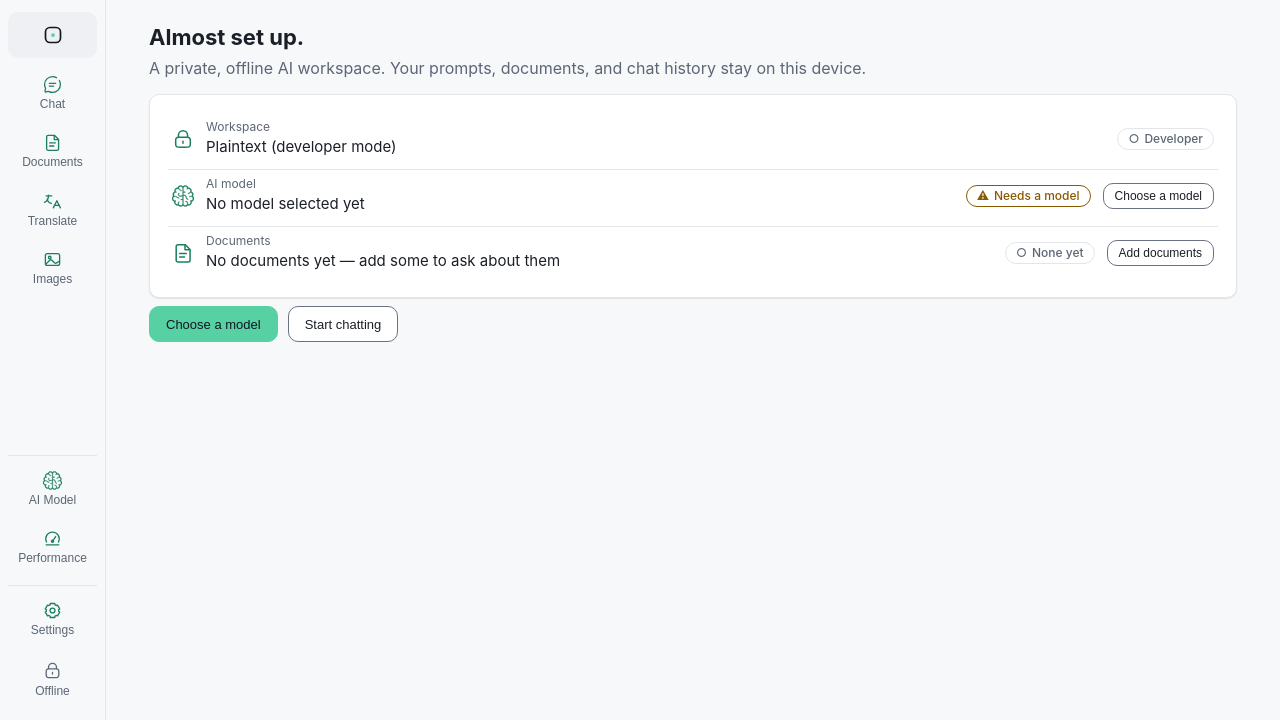
App shell: three rail groups, Home behind the brand mark (rail rework 2026-09-05) › opens the AI Model screen from the nav
Click the button "AI Model" at (52,489), box [8,462,97,516]
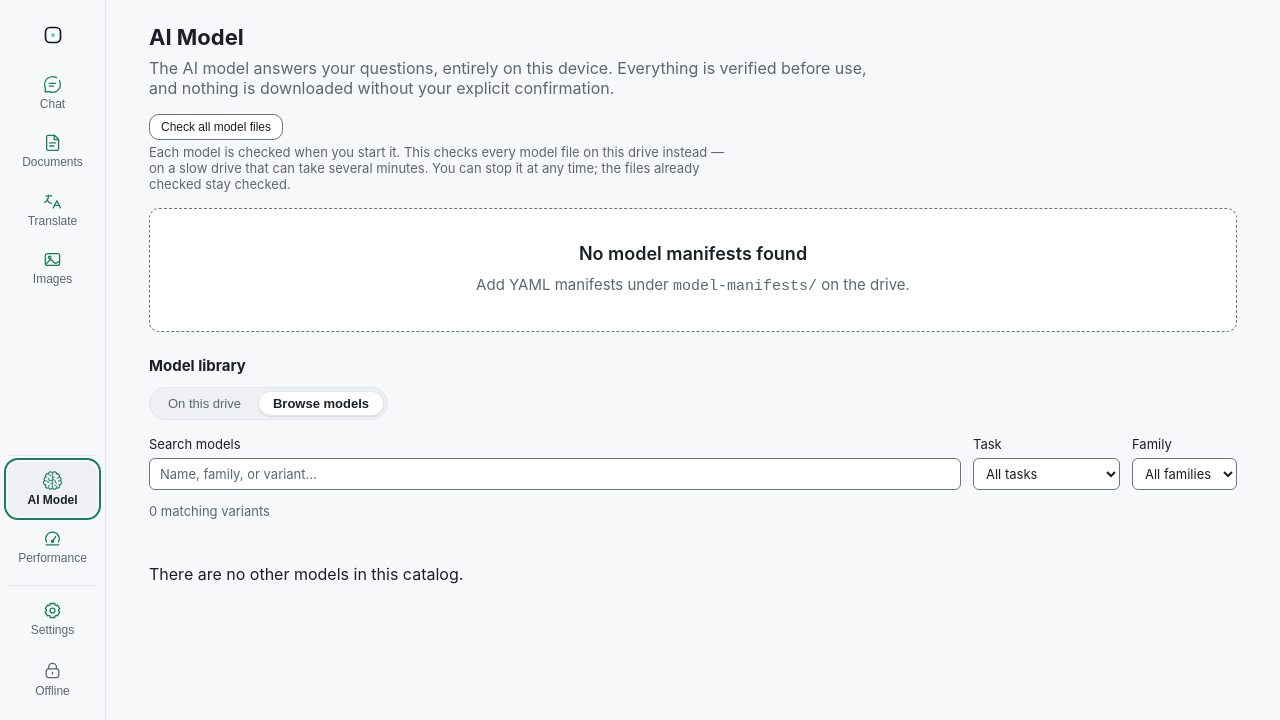
Result: the heading "AI Model" is shown at [149,24,244,50]
